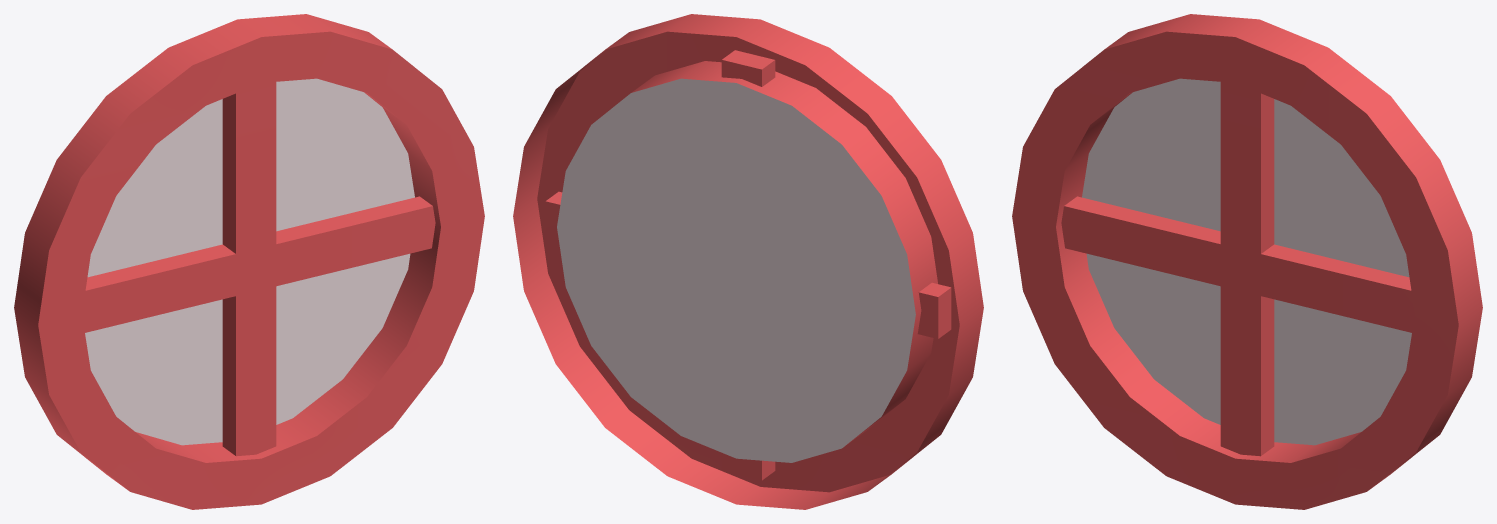
The model's file is Decor_Cuasotron.fbx.
3 renders of one model, left to right at view 1: azimuth 30°, elevation 25°; view 2: azimuth 150°, elevation 25°; view 3: azimuth 330°, elevation 25°, orthographic.
Visible parts, largest first — view 1: Decor_Cuasotron; view 2: Decor_Cuasotron; view 3: Decor_Cuasotron.
Boxes of the visible parts, x1=… form: Decor_Cuasotron: x1=14, y1=14, x2=484, y2=509; Decor_Cuasotron: x1=513, y1=14, x2=983, y2=509; Decor_Cuasotron: x1=1012, y1=14, x2=1482, y2=509.
Size of the model in its own units: 194 by 194 by 18.17.
